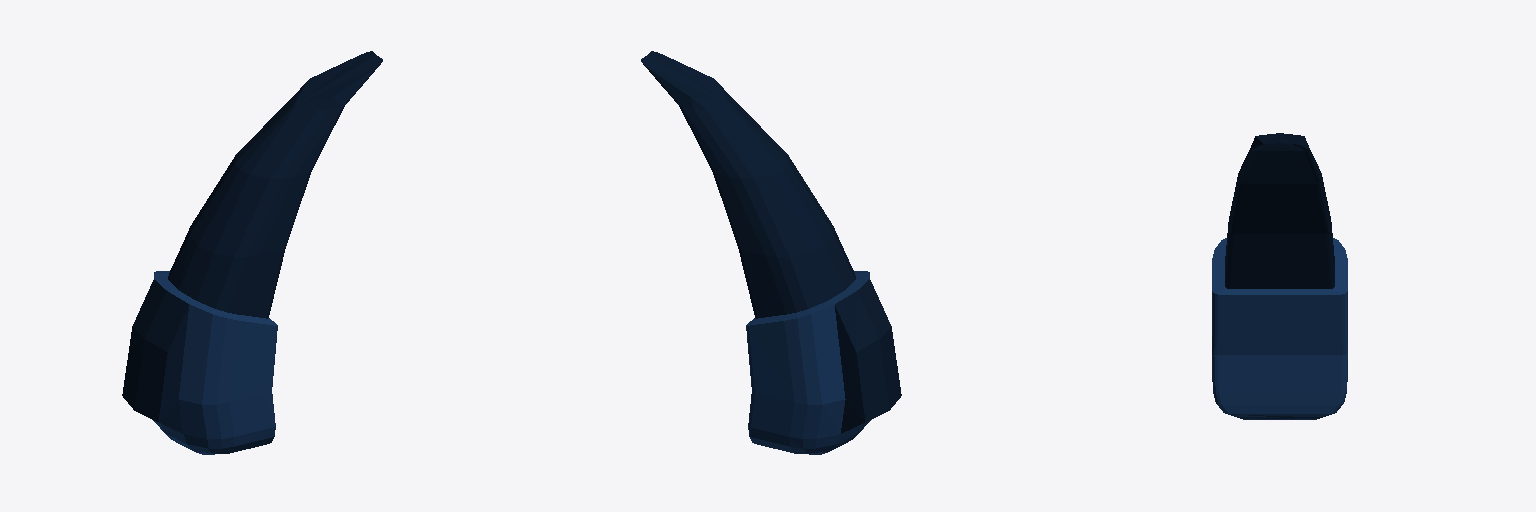
The model's file is character_spaceSoldierArmRight.obj.
3 views of the same model, side by side, from view 1: azimuth 30°, elevation 25°; view 2: azimuth 150°, elevation 25°; view 3: azimuth 270°, elevation 25° (orthographic).
Parts seen in each view (by area): view 1: character_spaceSoldierArmRight_Cube.5755; view 2: character_spaceSoldierArmRight_Cube.5755; view 3: character_spaceSoldierArmRight_Cube.5755.
Boxes of the visible parts, x1=… form: character_spaceSoldierArmRight_Cube.5755: x1=122, y1=51, x2=382, y2=454; character_spaceSoldierArmRight_Cube.5755: x1=641, y1=51, x2=901, y2=454; character_spaceSoldierArmRight_Cube.5755: x1=1212, y1=133, x2=1347, y2=419.
Bounding box in the file's own units: 0.4296 × 0.5799 × 0.2094.